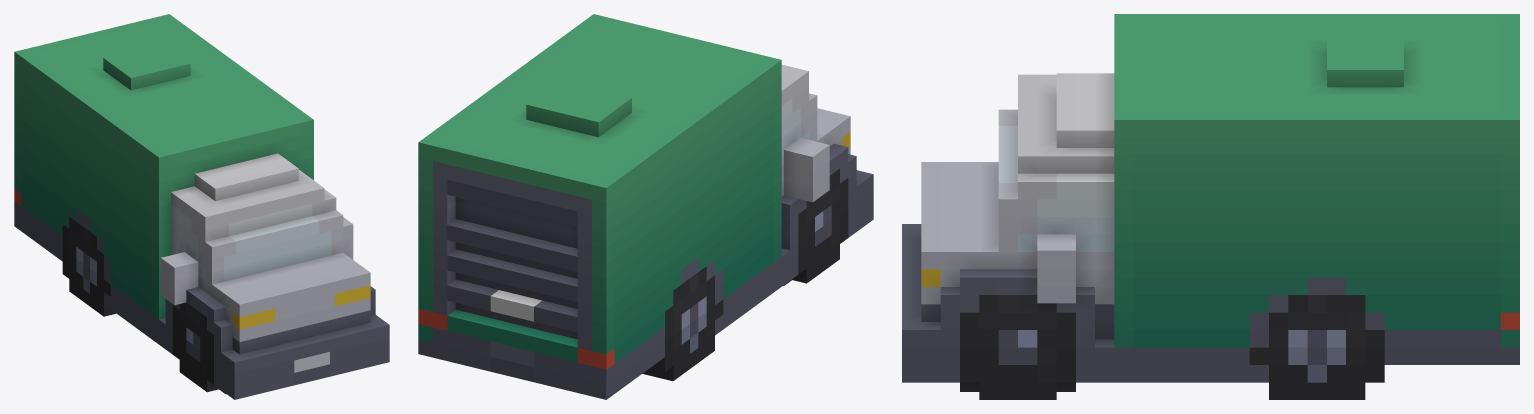
The model's file is delivery_van.glb.
3 renders of one model, left to right at view 1: azimuth 30°, elevation 25°; view 2: azimuth 150°, elevation 25°; view 3: azimuth 270°, elevation 25°, orthographic. The views are drawn at different scales.
Visible parts, largest first — view 1: voxels; view 2: voxels; view 3: voxels.
Part boxes in pixels (box(x1,y1,x2,y2)): voxels: box(14, 14, 389, 399); voxels: box(418, 14, 873, 399); voxels: box(902, 14, 1519, 399).
Size of the model in its own units: 1.55 by 1.75 by 3.3.
